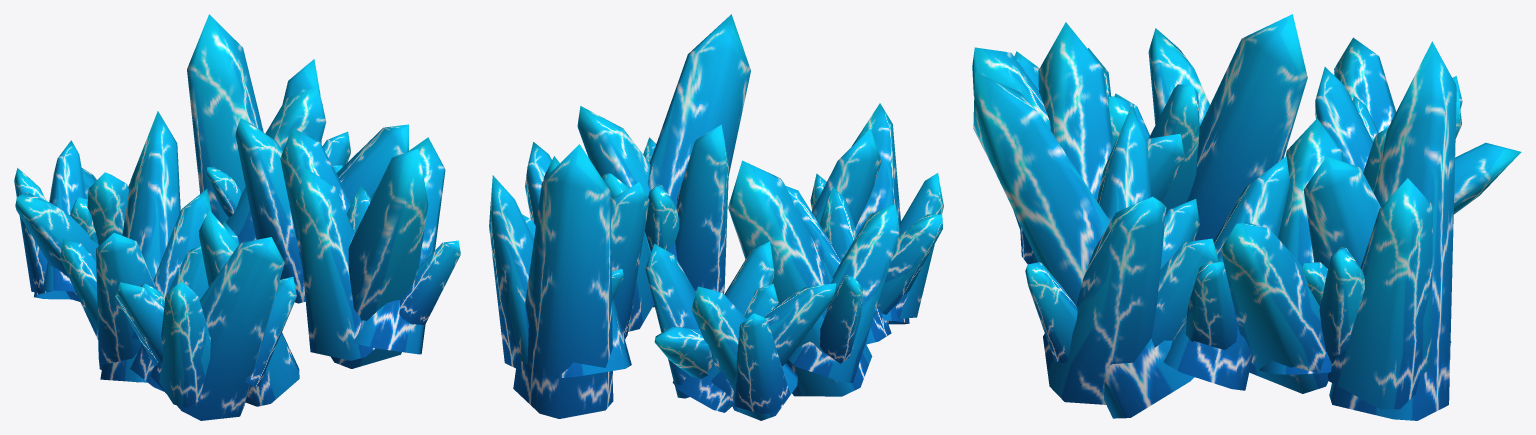
Rendered from effect_28_iceage.FBX.
3 views of the same model, side by side, from view 1: azimuth 30°, elevation 25°; view 2: azimuth 150°, elevation 25°; view 3: azimuth 270°, elevation 25° (orthographic). The views are drawn at different scales.
Parts seen in each view (by area): view 1: iceage; view 2: iceage; view 3: iceage.
Part boxes in pixels (bbox=[...]): iceage: bbox=[14, 14, 460, 420]; iceage: bbox=[489, 14, 943, 420]; iceage: bbox=[972, 14, 1521, 420].
Bounding box in the file's own units: 126 × 94.47 × 136.
1 material, 1 textured.
